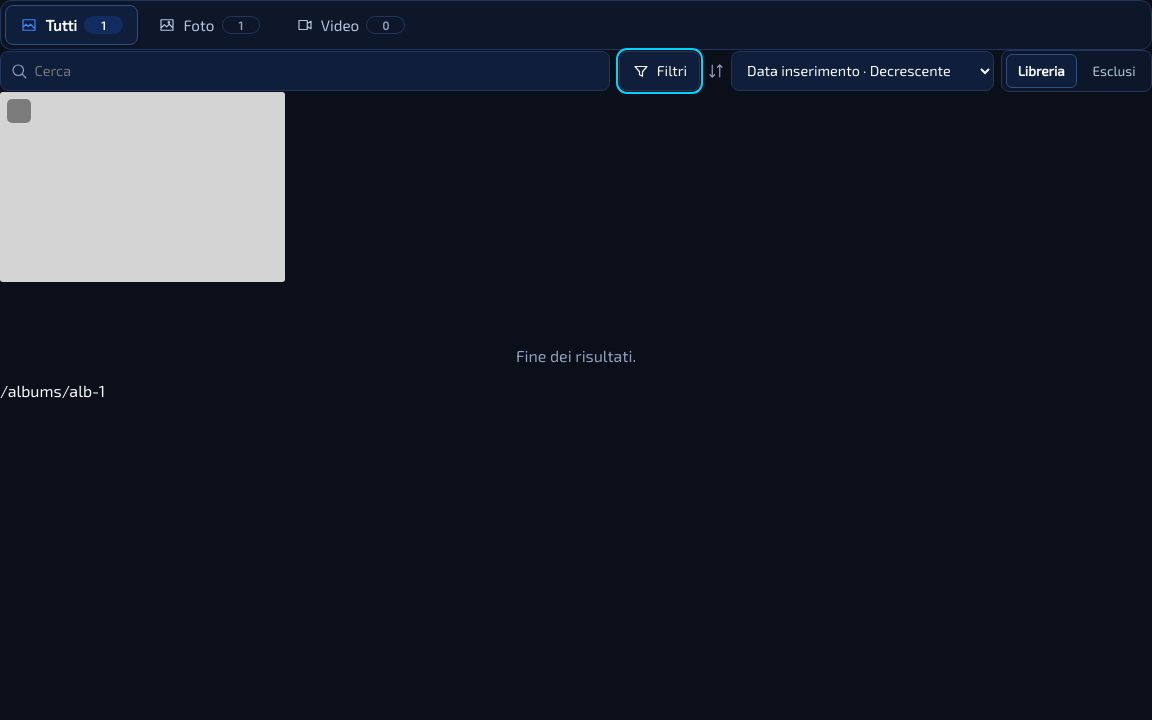
Test: viewer similarity actions — destinations from the Library origin › Find similar from an ALBUM leaves for the Library filter (it is not the destination)
Click the button named "Apri photo.jpg".
click(142, 187)  # box [0,92,285,282]
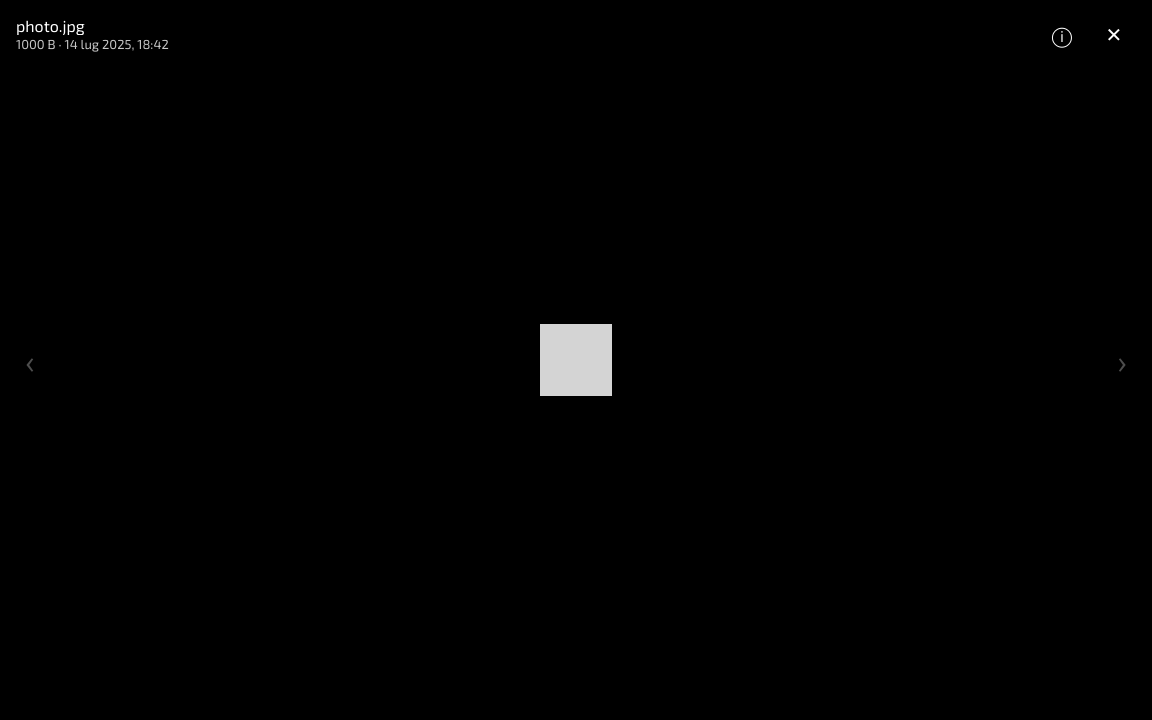
Click the button with test id "viewer-details-toggle".
click(1062, 34)  # box [1040,12,1084,56]
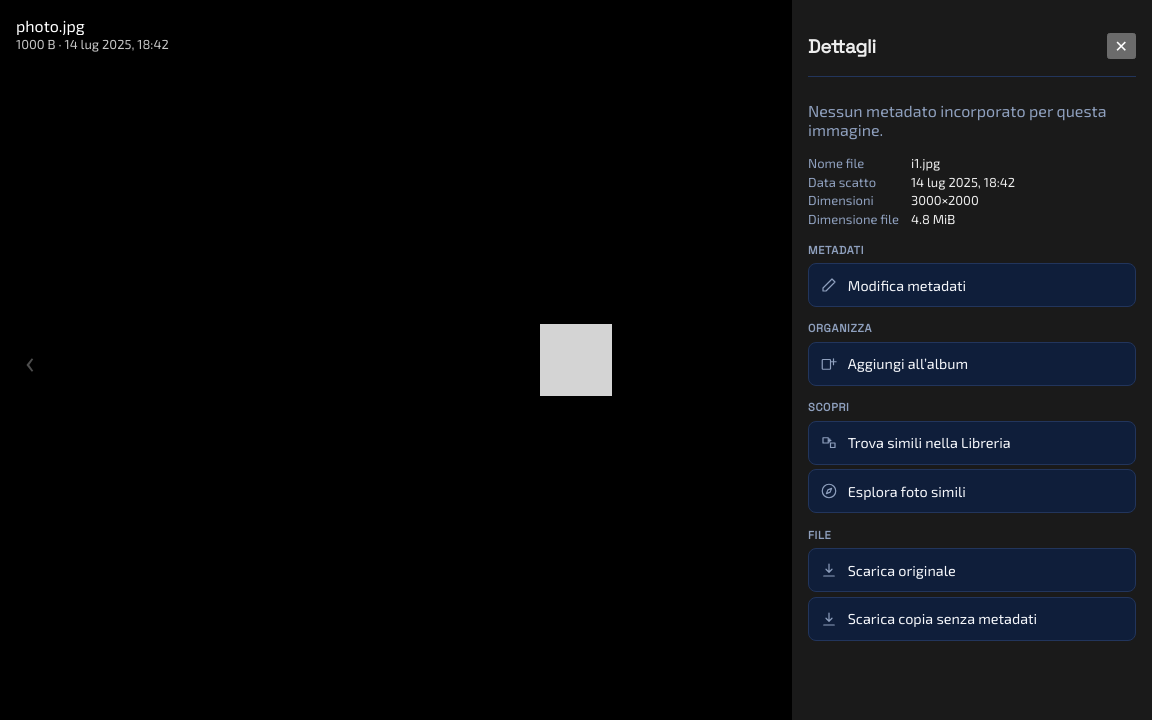
Click the button with test id "viewer-find-similar".
click(972, 443)  # box [808,421,1136,465]
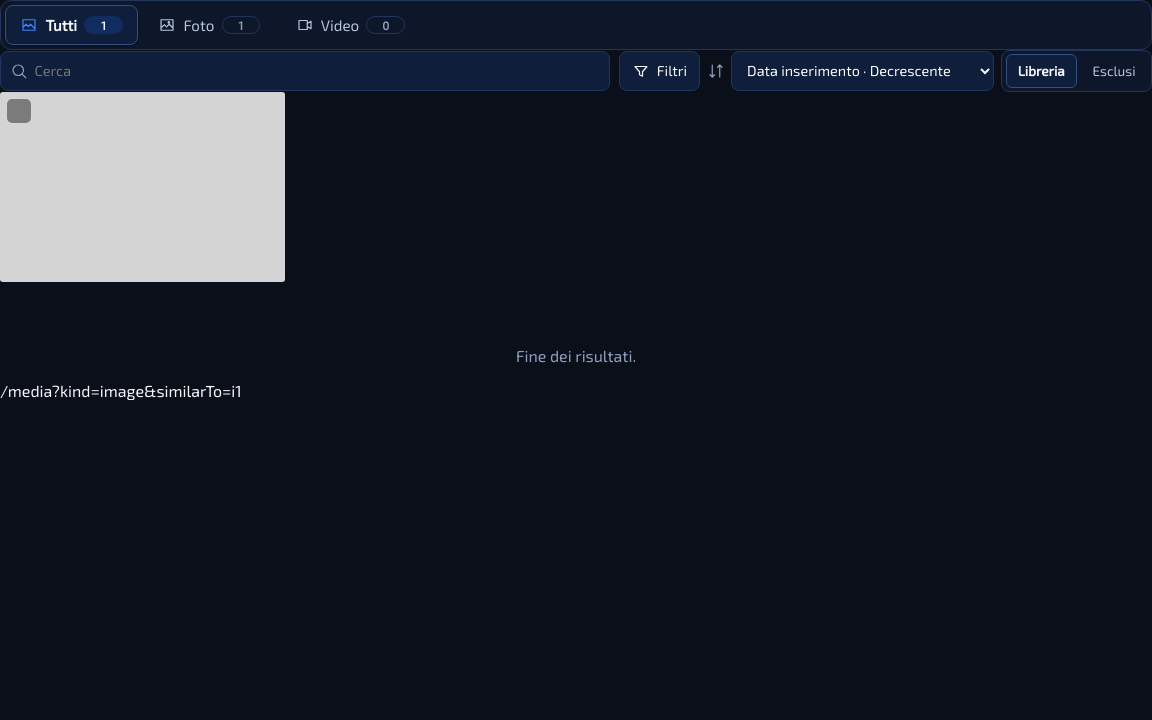
Expected: the text with test id "loc" reads "/media?kind=image&similarTo=i1", [0,381,242,400]
